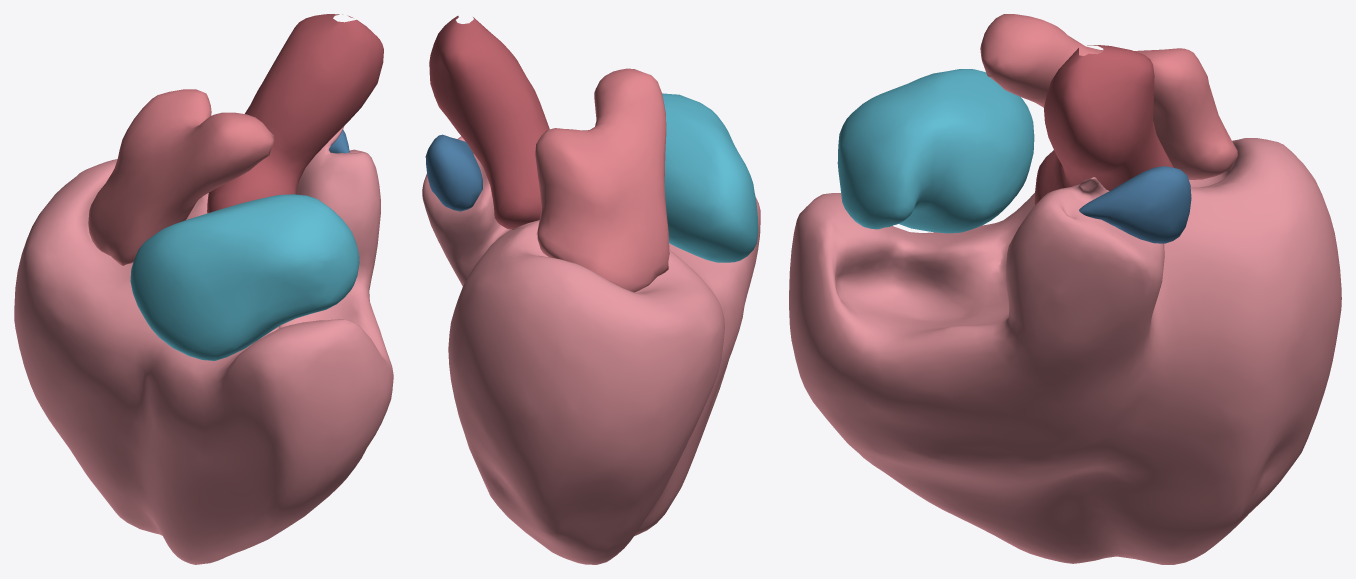
Rendered from frame_7.glb.
3 views of the same model, side by side, from view 1: azimuth 30°, elevation 25°; view 2: azimuth 150°, elevation 25°; view 3: azimuth 270°, elevation 25° (orthographic). The views are drawn at different scales.
Visible parts, largest first — view 1: Renderer Node; view 2: Renderer Node; view 3: Renderer Node.
Part boxes in pixels (x1,y1,x2,y2): Renderer Node: (14,14,393,564); Renderer Node: (422,16,760,564); Renderer Node: (789,14,1341,564).
Bounding box in the file's own units: 107 × 164 × 136.
